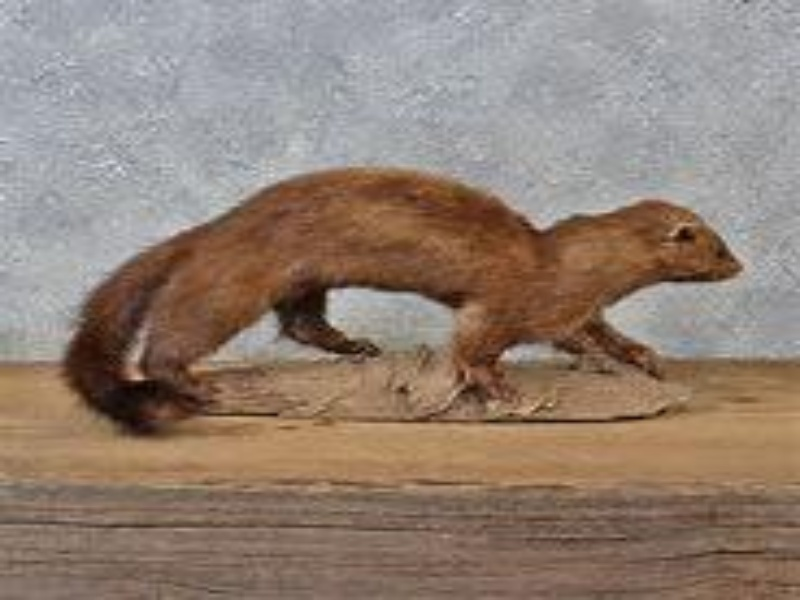minkish: (54, 163, 744, 441)
